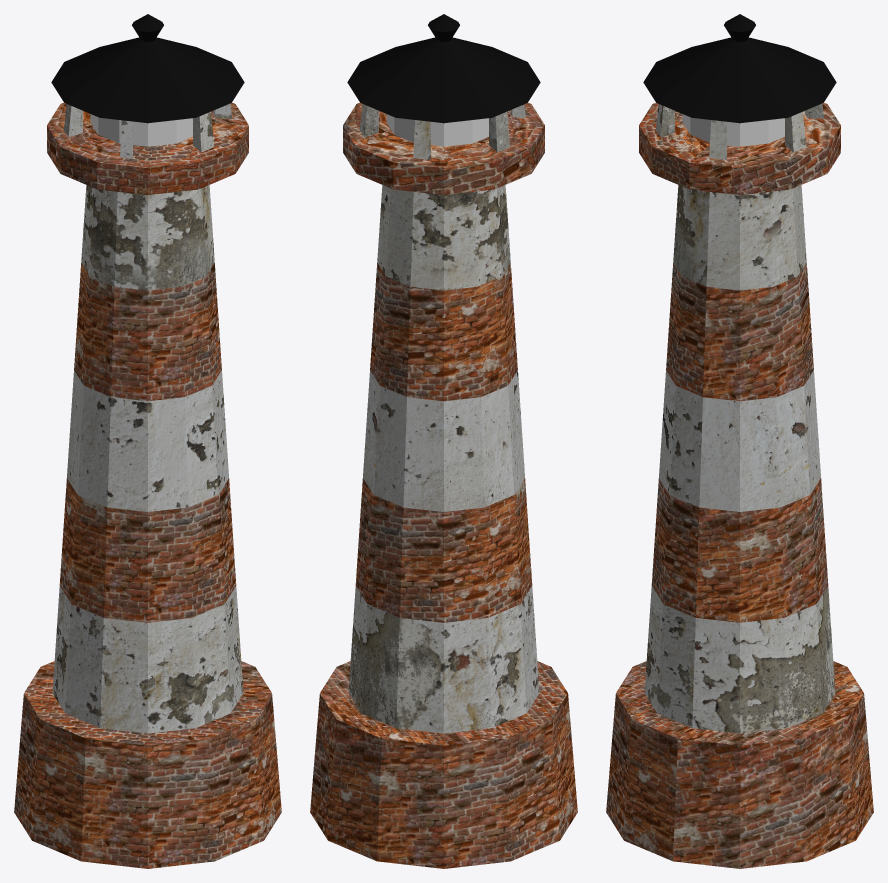
The model's file is lighthouse.gltf.
The picture shows the model from 3 angles, left to right: view 1: azimuth 30°, elevation 25°; view 2: azimuth 150°, elevation 25°; view 3: azimuth 270°, elevation 25°; orthographic projection.
Visible parts, largest first — view 1: Cylinder; view 2: Cylinder; view 3: Cylinder.
Part boxes in pixels (box(x1,y1,x2,y2)): Cylinder: box(14, 14, 281, 868); Cylinder: box(310, 14, 577, 868); Cylinder: box(606, 14, 873, 868).
Bounding box in the file's own units: 9.22 × 30.32 × 9.22.
Materials: 4 (2 with a texture image).
